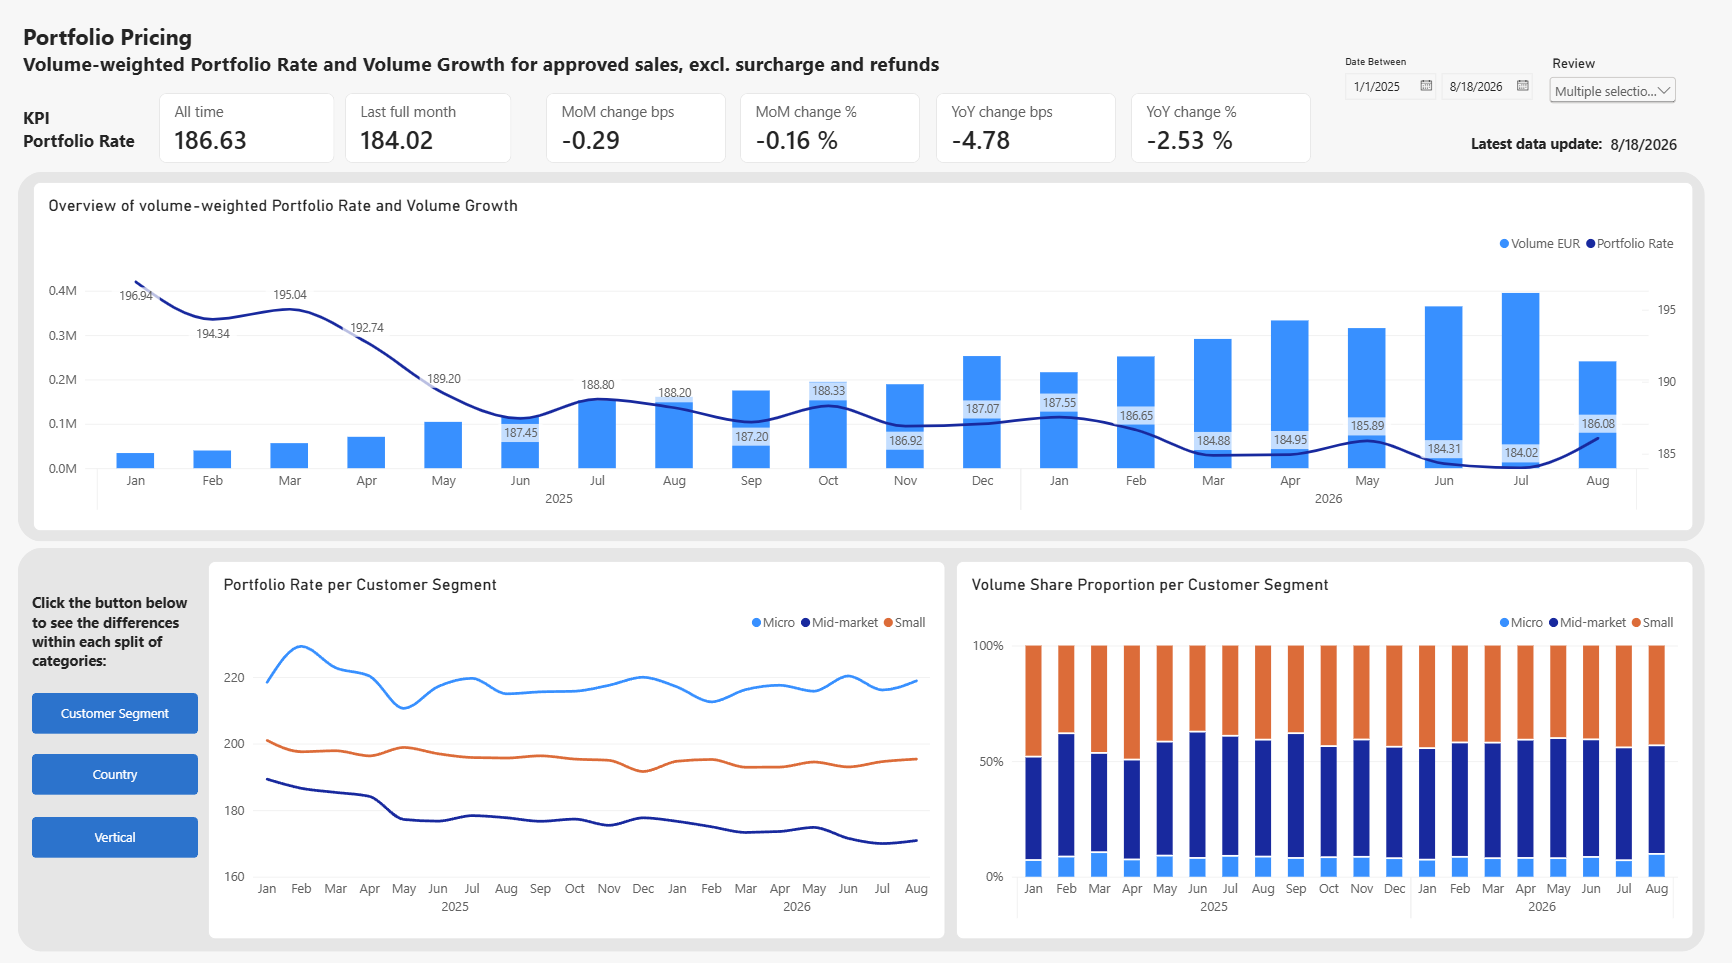

Layout of this report page (visuals, bound fields, positions):
{"tool":"powerbi","page":{"name":"Portfolio Pricing","canvas":[1920,1080],"ordinal":0},"visuals":[{"type":"textbox","box":[1628.8,161.2,156.2,28.8],"z":0,"group":"g1"},{"type":"shape","box":[31.2,203.8,1855,406.2],"z":0},{"type":"lineChart","title":"Portfolio Rate per Customer Segment","fields":{"Category":["Date.Year Hierarchy.Year","Date.Year Hierarchy.Month"],"Series":["Merchants.customer_segment"],"Y":["_Measures.Portfolio Rate"]},"box":[240,631.2,811.2,416.2],"z":0,"group":"g2"},{"type":"cardVisual","fields":{"Data":["_Measures.Latest date"]},"box":[1766.3,151.2,108,42],"z":1000,"group":"g1"},{"type":"shape","box":[31.2,617.5,1855,443.8],"z":1000},{"type":"hundredPercentStackedColumnChart","title":"Volume Share Proportion per Customer Segment","fields":{"Category":["Date.Year Hierarchy.Year","Date.Year Hierarchy.Month"],"Series":["Merchants.customer_segment"],"Y":["Sum(Transactions.amount_eur)"]},"box":[1062.5,631.2,811.2,416.2],"z":1000,"group":"g2"},{"type":"lineClusteredColumnComboChart","title":"Overview of volume-weighted Portfolio Rate and Volume Growth","fields":{"Category":["Date.Year Hierarchy.Year","Date.Year Hierarchy.Month"],"Y":["Sum(Transactions.amount_eur)"],"Y2":["_Measures.Portfolio Rate"]},"box":[47.5,215,1826.2,383.8],"z":2000},{"type":"textbox","title":"Title","box":[36,37,1028,72],"z":3000},{"type":"slicer","title":"Review Slicer","fields":{"Values":["Transactions.review_flag"]},"box":[1710,76.2,148.8,67.5],"z":4000},{"type":"cardVisual","fields":{"Data":["_Measures.Portfolio Rate"]},"box":[186.2,116.2,193.8,77.5],"z":5000},{"type":"group","id":"g1","title":"Last data update","box":[1628.8,151.2,245,42.5],"z":6000},{"type":"actionButton","title":"Segment button","box":[46.7,776.2,182.5,45],"z":7000},{"type":"actionButton","title":"Country button","box":[46.7,843.8,182.5,45],"z":8000},{"type":"actionButton","title":"Vertical button","box":[46.7,912.5,182.5,45],"z":9000},{"type":"textbox","title":"Click the button","box":[46.7,666.2,182.5,90],"z":10000},{"type":"group","id":"g2","title":"Segment Split","box":[240,631.2,1633.8,416.2],"z":13000},{"type":"cardVisual","fields":{"Data":["_Measures.Rate Last Full Month"]},"box":[390,116.2,183.8,77.5],"z":14000},{"type":"cardVisual","fields":{"Data":["_Measures.Rate Change MoM bps"]},"box":[611.2,116.2,198.8,77.5],"z":15000},{"type":"cardVisual","fields":{"Data":["_Measures.Rate Change MoM %"]},"box":[825,116.2,198.8,77.5],"z":16000},{"type":"cardVisual","fields":{"Data":["_Measures.Rate Change YoY bps"]},"box":[1040,116.2,198.8,77.5],"z":17000},{"type":"cardVisual","fields":{"Data":["_Measures.Rate Change YoY %"]},"box":[1255,116.2,198.8,77.5],"z":18000},{"type":"textbox","box":[36.2,131.2,141.2,62.5],"z":19000},{"type":"slicer","fields":{"Values":["Date.Date"]},"box":[1482.5,76.2,225,55],"z":20000}]}

Visuals, with their boxes in screenshot pixels (x1, y1, x2, y2), scaled from the page's 1920x1080 canvas onto the 1732x963 screenshot:
textbox: box=[1469, 144, 1610, 169]
shape: box=[28, 182, 1702, 544]
"Portfolio Rate per Customer Segment" lineChart: box=[216, 563, 948, 934]
cardVisual - _Measures.Latest date: box=[1593, 135, 1691, 172]
shape: box=[28, 551, 1702, 946]
"Volume Share Proportion per Customer Segment" hundredPercentStackedColumnChart: box=[958, 563, 1690, 934]
"Overview of volume-weighted Portfolio Rate and Volume Growth" lineClusteredColumnComboChart: box=[43, 192, 1690, 534]
"Title" textbox: box=[32, 33, 960, 97]
"Review Slicer" slicer: box=[1543, 68, 1677, 128]
cardVisual - _Measures.Portfolio Rate: box=[168, 104, 343, 173]
"Last data update" group: box=[1469, 135, 1690, 173]
"Segment button" actionButton: box=[42, 692, 207, 732]
"Country button" actionButton: box=[42, 752, 207, 793]
"Vertical button" actionButton: box=[42, 814, 207, 854]
"Click the button" textbox: box=[42, 594, 207, 674]
"Segment Split" group: box=[216, 563, 1690, 934]
cardVisual - _Measures.Rate Last Full Month: box=[352, 104, 518, 173]
cardVisual - _Measures.Rate Change MoM bps: box=[551, 104, 731, 173]
cardVisual - _Measures.Rate Change MoM %: box=[744, 104, 924, 173]
cardVisual - _Measures.Rate Change YoY bps: box=[938, 104, 1118, 173]
cardVisual - _Measures.Rate Change YoY %: box=[1132, 104, 1311, 173]
textbox: box=[33, 117, 160, 173]
slicer - Date.Date: box=[1337, 68, 1540, 117]
